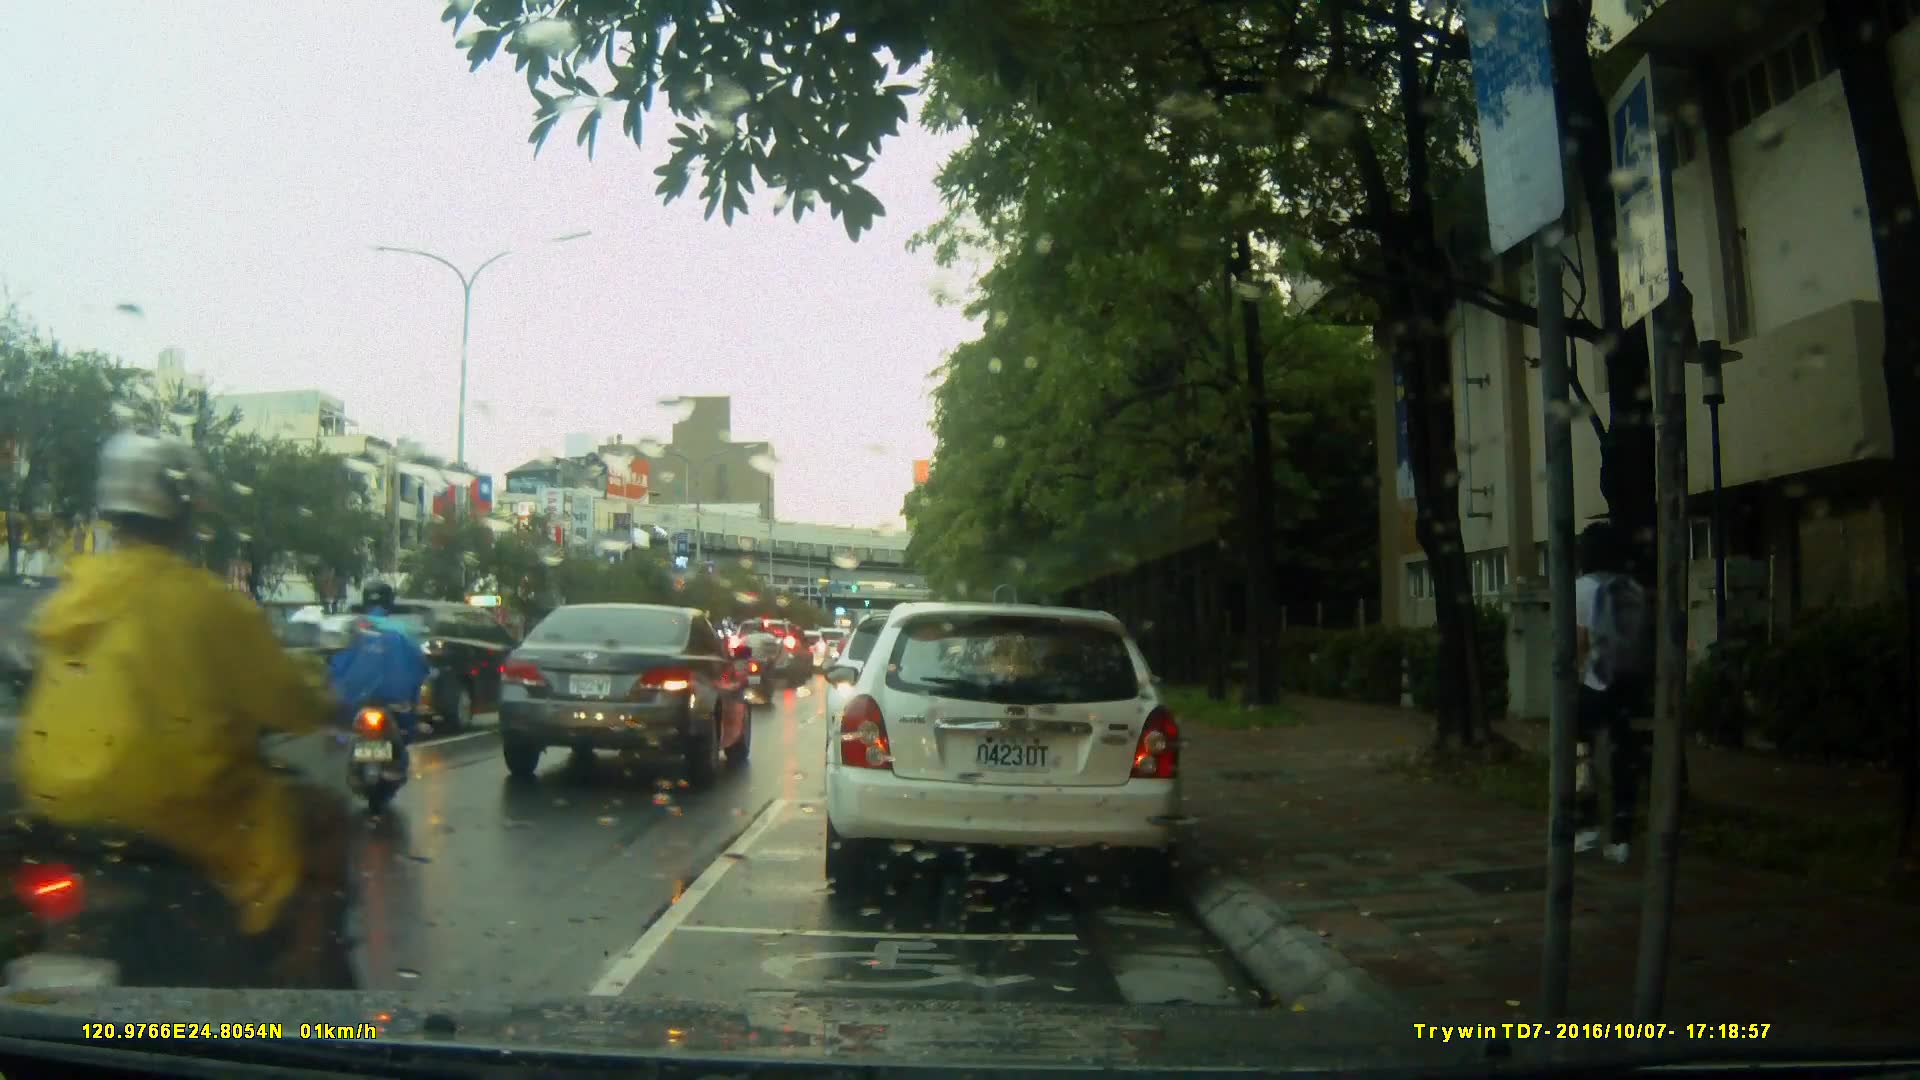pedestrian: (1536, 519, 1652, 867)
rider: (31, 412, 323, 1057), (340, 581, 434, 811), (741, 617, 776, 702)
vehicle: (1, 545, 281, 987), (820, 602, 1188, 898), (496, 601, 757, 785), (326, 597, 539, 736), (733, 619, 813, 690), (134, 634, 239, 689)
